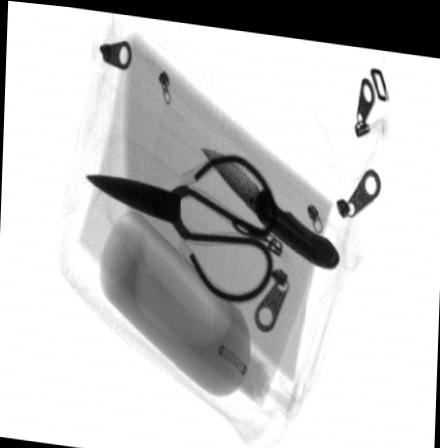Knife: (202, 141, 340, 261)
Scissors: (86, 146, 277, 301)
